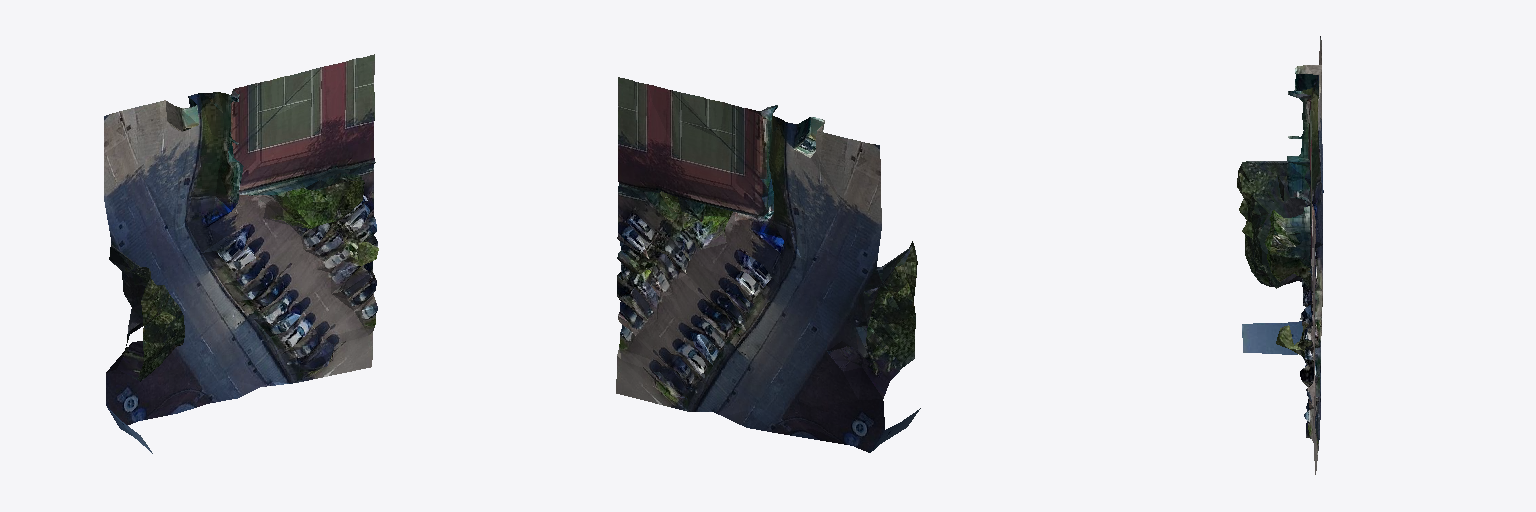
The picture shows the model from 3 angles: view 1: azimuth 30°, elevation 25°; view 2: azimuth 150°, elevation 25°; view 3: azimuth 270°, elevation 25°; orthographic projection.
Visible parts, largest first — view 1: obj_0; view 2: obj_0; view 3: obj_0.
Part boxes in pixels (bbox=[...]): obj_0: bbox=[104, 54, 378, 453]; obj_0: bbox=[616, 77, 920, 452]; obj_0: bbox=[1237, 36, 1323, 474].
Bounding box in the file's own units: 40.15 × 45.05 × 11.29.
Materials: 1 (1 with a texture image).